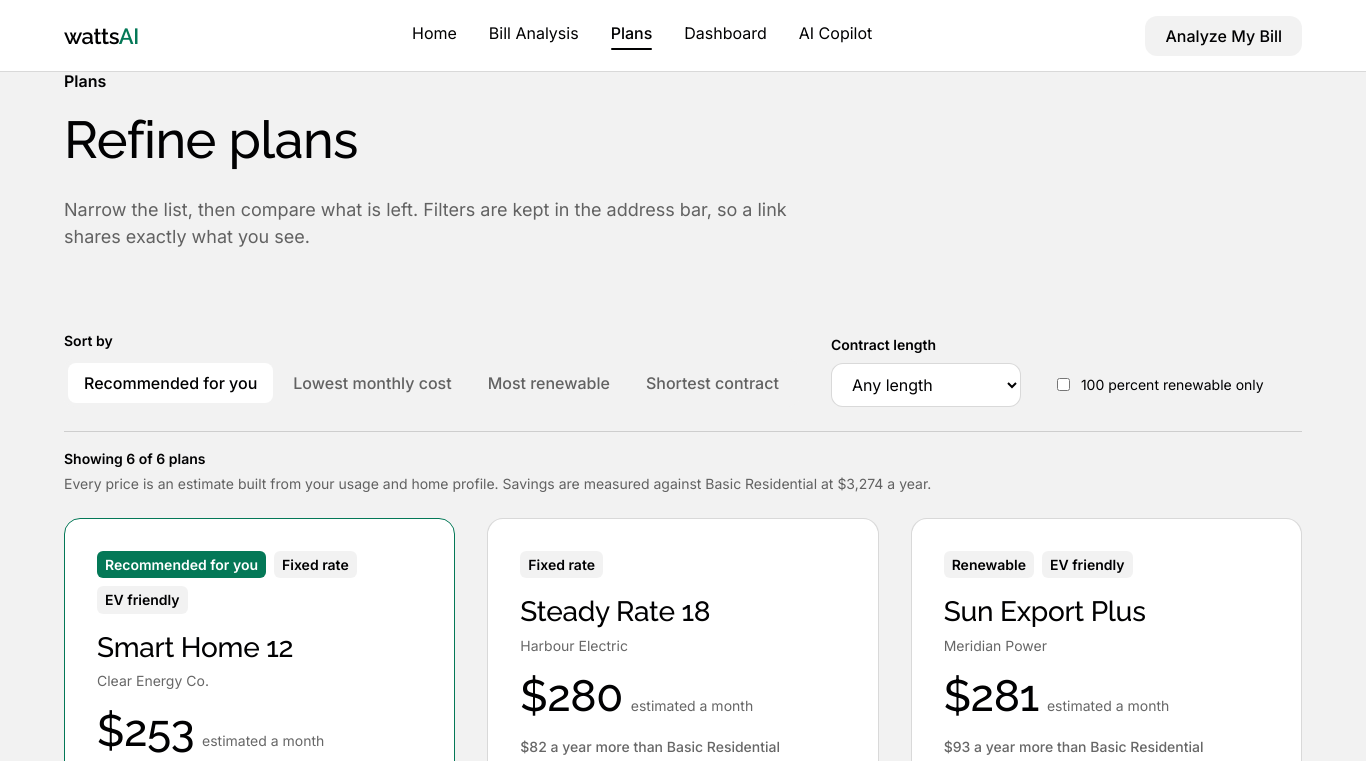
Test: scroll position on navigation › leaves the page where it is when a filter changes
The width and height of the screenshot is (1366, 761).
(page scrolled)
Click the checkbox labelled "100 percent renewable only" at (1063, 385), box x1=1057 y1=378 x2=1070 y2=391
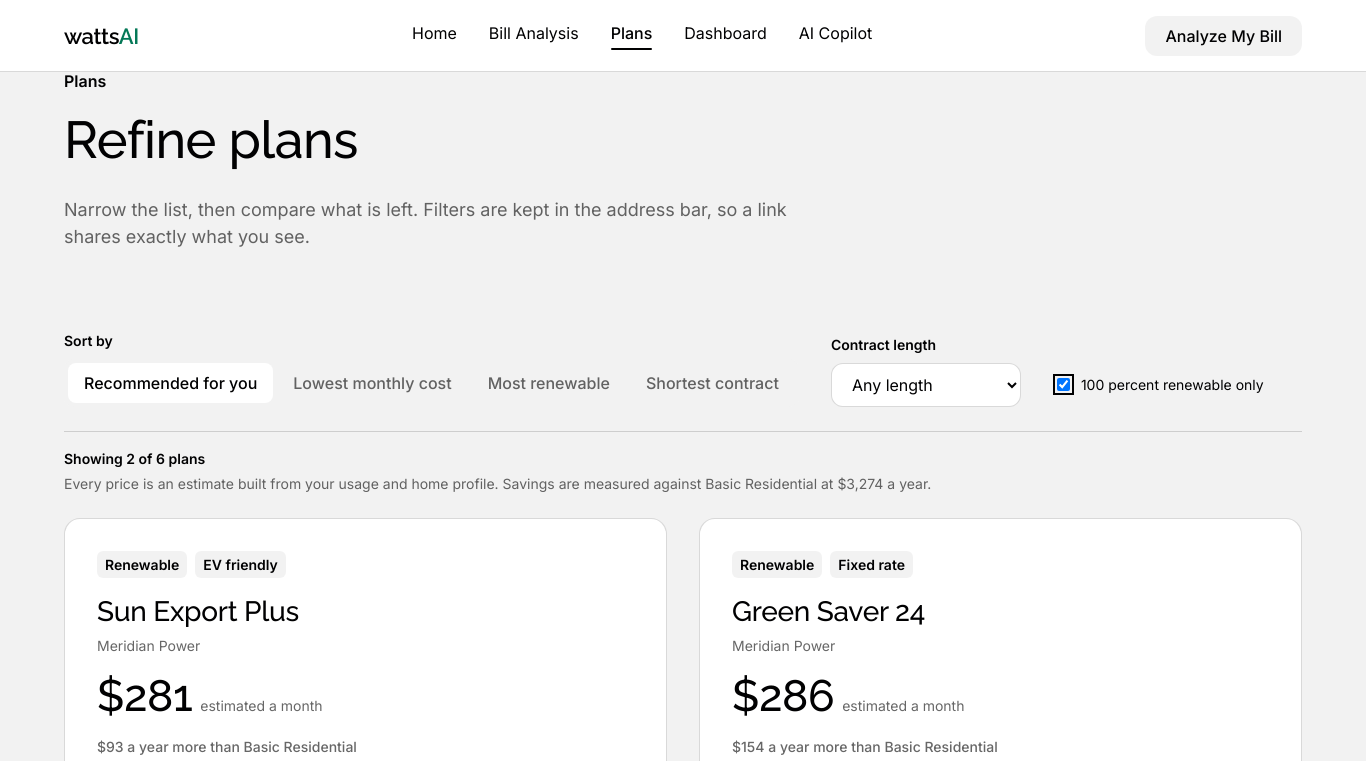
Result: the text "Showing 2 of 6 plans" is shown at x1=64 y1=450 x2=205 y2=467
